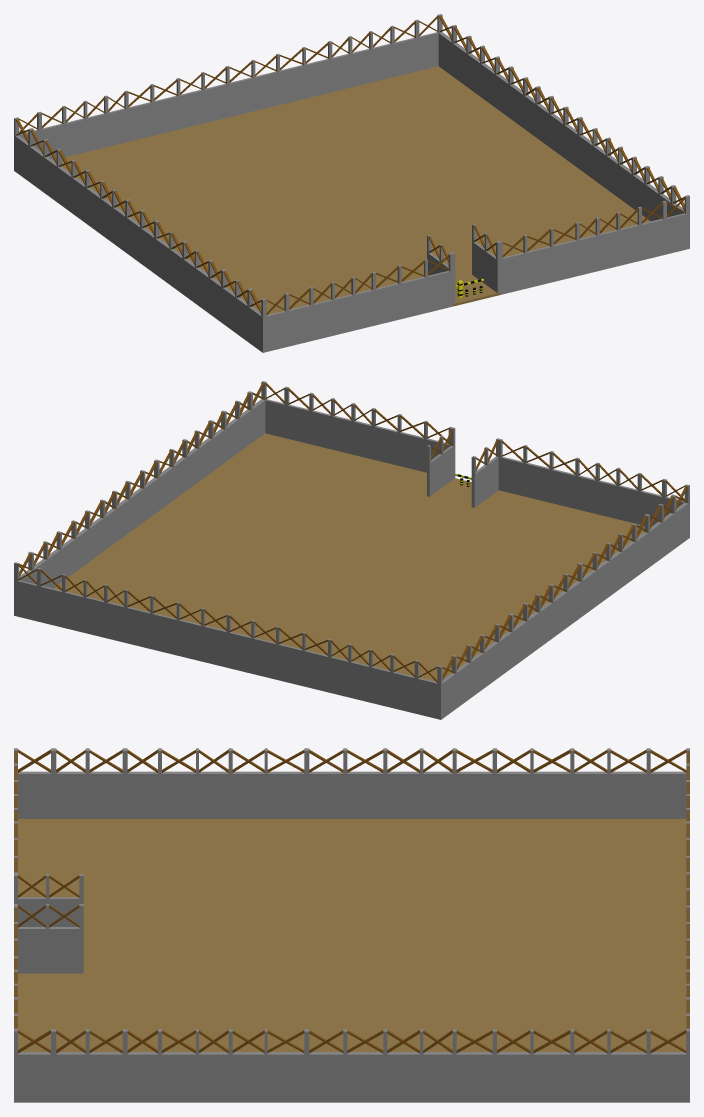
Rendered from square.fbx.
3 views of the same model, one above another, from view 1: azimuth 30°, elevation 25°; view 2: azimuth 150°, elevation 25°; view 3: azimuth 270°, elevation 25° (orthographic). The views are drawn at different scales.
Visible parts, largest first — view 1: square; view 2: square; view 3: square.
Part boxes in pixels (x1,y1,x2,y2): square: [14, 14, 689, 352]; square: [14, 381, 689, 719]; square: [14, 748, 689, 1102].
Bounding box in the file's own units: 7353 × 872 × 7421.
